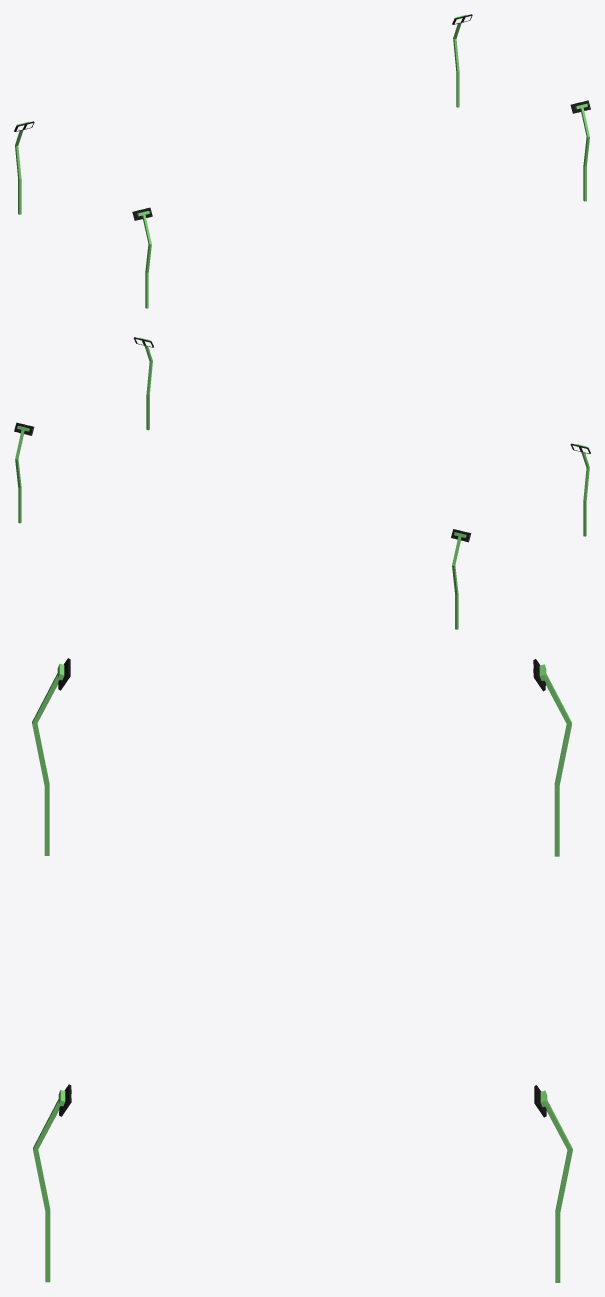
File: padel_5.glb
3 views of the same model, one above another, from view 1: azimuth 30°, elevation 25°; view 2: azimuth 150°, elevation 25°; view 3: azimuth 270°, elevation 25° (orthographic). The views are drawn at different scales.
Parts seen in each view (by area): view 1: padel_6; view 2: padel_6; view 3: padel_6.
Boxes of the visible parts, <box> form: padel_6: <box>14,14,590,308</box>; padel_6: <box>14,337,590,629</box>; padel_6: <box>32,658,572,1282</box>.
Size of the model in its own units: 20.91 by 4.14 by 10.76.
